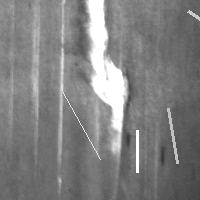scratches: (81, 1, 129, 159), (56, 84, 105, 164), (27, 1, 43, 163), (55, 1, 67, 164), (163, 103, 182, 168), (183, 6, 200, 53), (89, 48, 103, 90), (132, 125, 142, 177)
